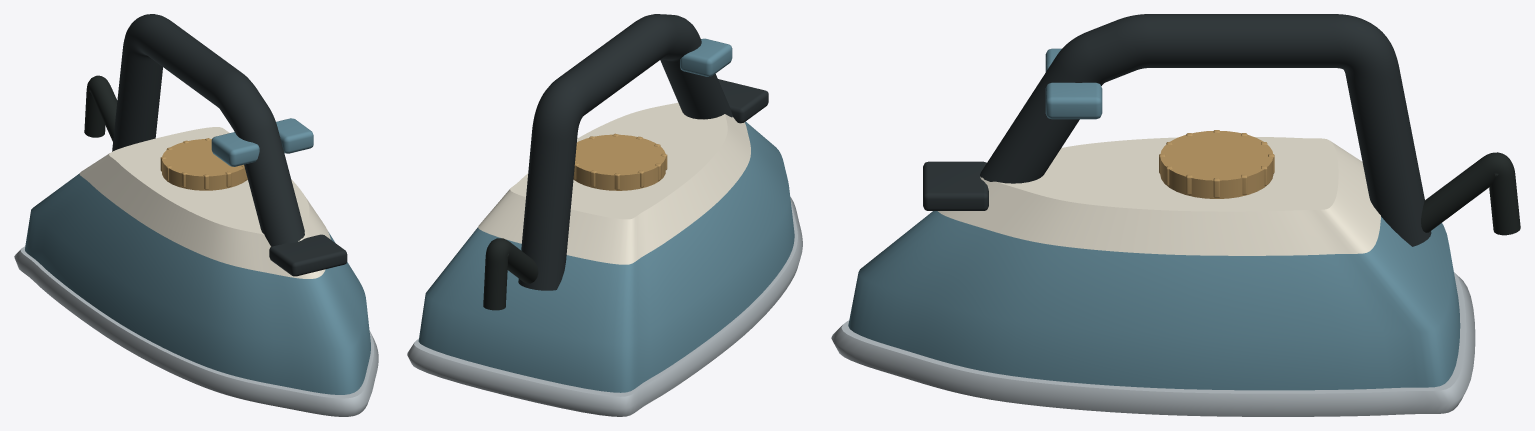
The model's file is laundry-steam-iron.glb.
The picture shows the model from 3 angles, left to right: view 1: azimuth 30°, elevation 25°; view 2: azimuth 150°, elevation 25°; view 3: azimuth 270°, elevation 25°; orthographic projection. The views are drawn at different scales.
Visible parts, largest first — view 1: catalog_surface_RealismUV, catalog_surface_UVMap; view 2: catalog_surface_RealismUV, catalog_surface_UVMap; view 3: catalog_surface_RealismUV, catalog_surface_UVMap.
Part boxes in pixels (<box>): catalog_surface_RealismUV: <box>14,75,378,416</box>; catalog_surface_UVMap: <box>112,14,347,276</box>; catalog_surface_RealismUV: <box>407,38,802,416</box>; catalog_surface_UVMap: <box>518,14,768,290</box>; catalog_surface_RealismUV: <box>831,48,1520,416</box>; catalog_surface_UVMap: <box>923,14,1431,246</box>.
Bounding box in the file's own units: 0.14 × 0.16 × 0.3.
